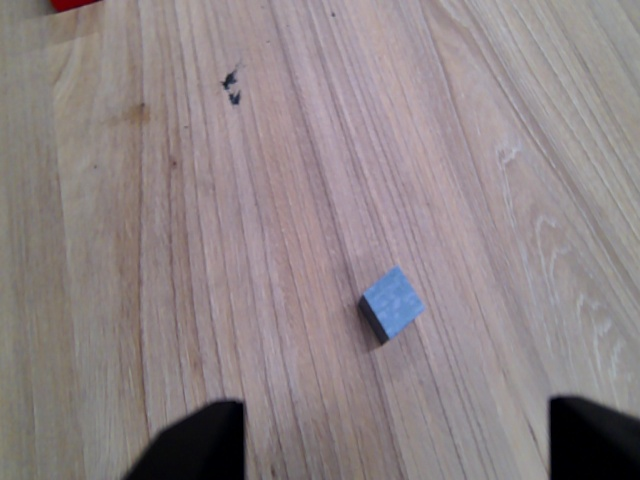stone: (358, 264, 427, 347)
